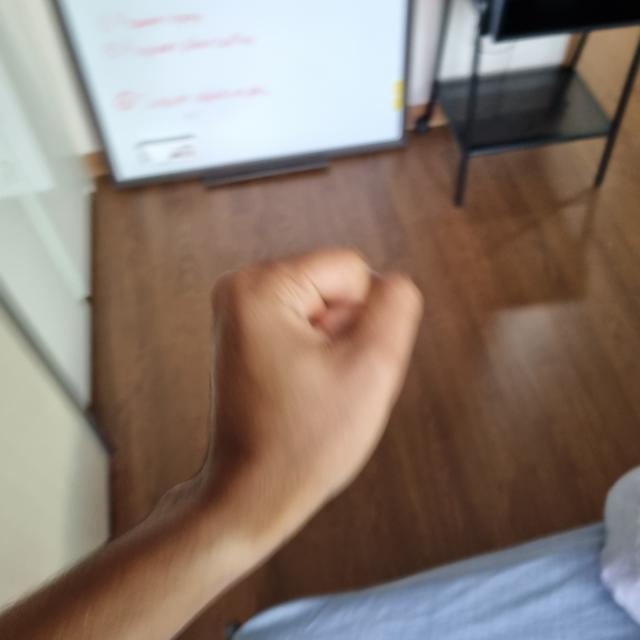Rock: (208, 251, 422, 535)
